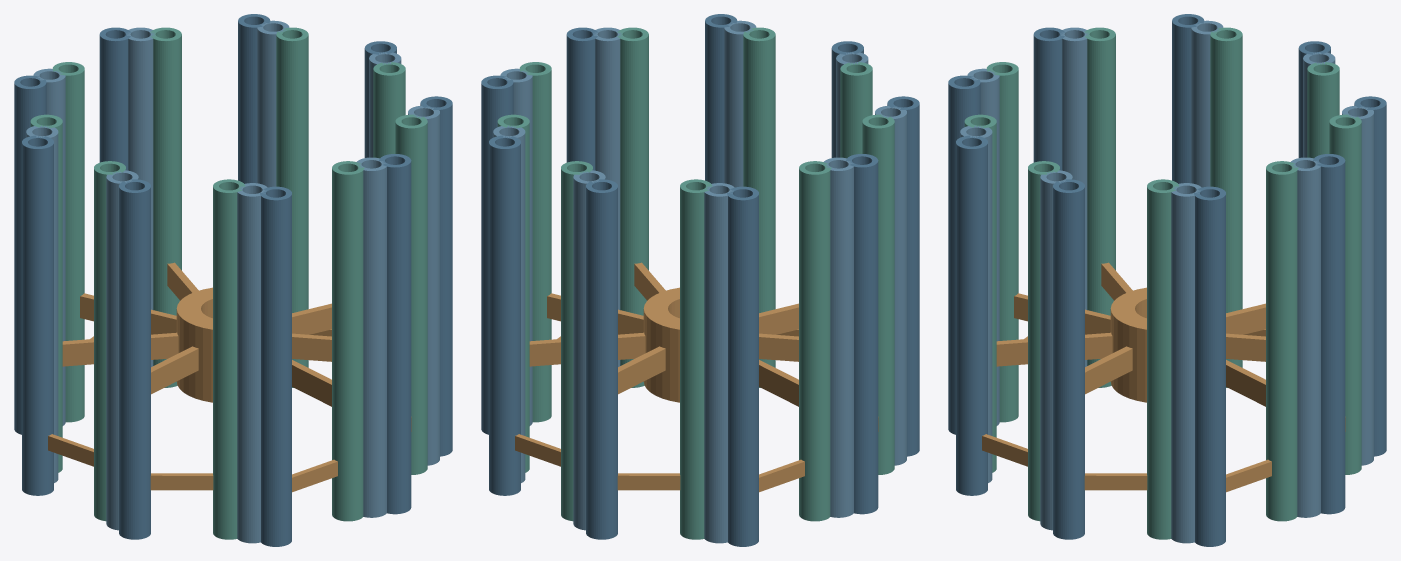
3 renders of one model, left to right at view 1: azimuth 30°, elevation 25°; view 2: azimuth 150°, elevation 25°; view 3: azimuth 270°, elevation 25°, orthographic.
Visible parts, largest first — view 1: WholeSharedWallTripletBlade_08, WholeSharedWallTripletBlade_07, WholeSharedWallTripletBlade_06, WholeSharedWallTripletBlade_09, WholeSharedWallTripletBlade_03, WholeSharedWallTripletBlade_05, WholeSharedWallTripletBlade_02, WholeSharedWallTripletBlade_04, WholeSharedWallTripletBlade_01, WholeProximalCartwheelHub, WholeCartwheelSpoke_05, WholeCartwheelSpoke_06 (+8 smaller); view 2: WholeSharedWallTripletBlade_05, WholeSharedWallTripletBlade_04, WholeSharedWallTripletBlade_03, WholeSharedWallTripletBlade_06, WholeSharedWallTripletBlade_09, WholeSharedWallTripletBlade_02, WholeSharedWallTripletBlade_08, WholeSharedWallTripletBlade_01, WholeSharedWallTripletBlade_07, WholeProximalCartwheelHub, WholeCartwheelSpoke_02, WholeCartwheelSpoke_03 (+8 smaller); view 3: WholeSharedWallTripletBlade_02, WholeSharedWallTripletBlade_01, WholeSharedWallTripletBlade_09, WholeSharedWallTripletBlade_03, WholeSharedWallTripletBlade_06, WholeSharedWallTripletBlade_08, WholeSharedWallTripletBlade_05, WholeSharedWallTripletBlade_07, WholeSharedWallTripletBlade_04, WholeProximalCartwheelHub, WholeCartwheelSpoke_08, WholeCartwheelSpoke_09 (+8 smaller).
Part boxes in pixels (<box>): WholeSharedWallTripletBlade_08: <box>332,154,411,521</box>; WholeSharedWallTripletBlade_07: <box>213,179,291,546</box>; WholeSharedWallTripletBlade_06: <box>94,161,150,539</box>; WholeSharedWallTripletBlade_09: <box>395,96,452,474</box>; WholeSharedWallTripletBlade_03: <box>99,27,181,387</box>; WholeSharedWallTripletBlade_05: <box>22,114,62,495</box>; WholeSharedWallTripletBlade_02: <box>238,14,308,387</box>; WholeSharedWallTripletBlade_04: <box>14,62,84,434</box>; WholeSharedWallTripletBlade_01: <box>364,41,405,158</box>; WholeProximalCartwheelHub: <box>176,287,212,402</box>; WholeCartwheelSpoke_05: <box>62,332,178,366</box>; WholeCartwheelSpoke_06: <box>151,346,198,394</box>; WholeSharedWallTripletBlade_05: <box>799,154,878,521</box>; WholeSharedWallTripletBlade_04: <box>680,179,758,546</box>; WholeSharedWallTripletBlade_03: <box>561,161,617,539</box>; WholeSharedWallTripletBlade_06: <box>862,96,919,474</box>; WholeSharedWallTripletBlade_09: <box>566,27,648,387</box>; WholeSharedWallTripletBlade_02: <box>489,114,529,495</box>; WholeSharedWallTripletBlade_08: <box>705,14,775,387</box>; WholeSharedWallTripletBlade_01: <box>481,62,551,434</box>; WholeSharedWallTripletBlade_07: <box>831,41,872,158</box>; WholeProximalCartwheelHub: <box>643,287,679,402</box>; WholeCartwheelSpoke_02: <box>529,332,645,366</box>; WholeCartwheelSpoke_03: <box>618,346,665,394</box>; WholeSharedWallTripletBlade_02: <box>1266,154,1345,521</box>; WholeSharedWallTripletBlade_01: <box>1147,179,1225,546</box>; WholeSharedWallTripletBlade_09: <box>1028,161,1084,539</box>; WholeSharedWallTripletBlade_03: <box>1329,96,1386,474</box>; WholeSharedWallTripletBlade_06: <box>1033,27,1115,387</box>; WholeSharedWallTripletBlade_08: <box>956,114,996,495</box>; WholeSharedWallTripletBlade_05: <box>1172,14,1242,387</box>; WholeSharedWallTripletBlade_07: <box>948,62,1018,434</box>; WholeSharedWallTripletBlade_04: <box>1298,41,1339,158</box>; WholeProximalCartwheelHub: <box>1110,287,1146,402</box>; WholeCartwheelSpoke_08: <box>996,332,1112,366</box>; WholeCartwheelSpoke_09: <box>1085,346,1132,394</box>.
Bounding box in the file's own units: 0.1094 × 0.095 × 0.1088.
